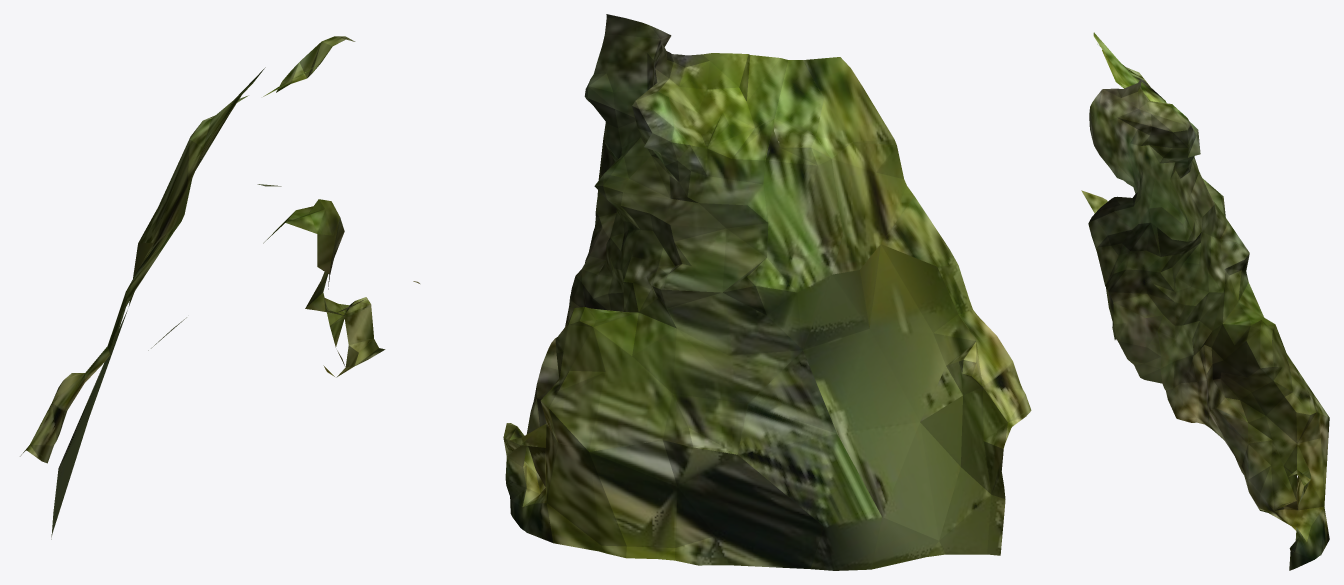
3 renders of one model, left to right at view 1: azimuth 30°, elevation 25°; view 2: azimuth 150°, elevation 25°; view 3: azimuth 270°, elevation 25°, orthographic. The views are drawn at different scales.
Size of the model in its own units: 1.67 by 1.67 by 0.9176.
3 materials, 3 textured.
